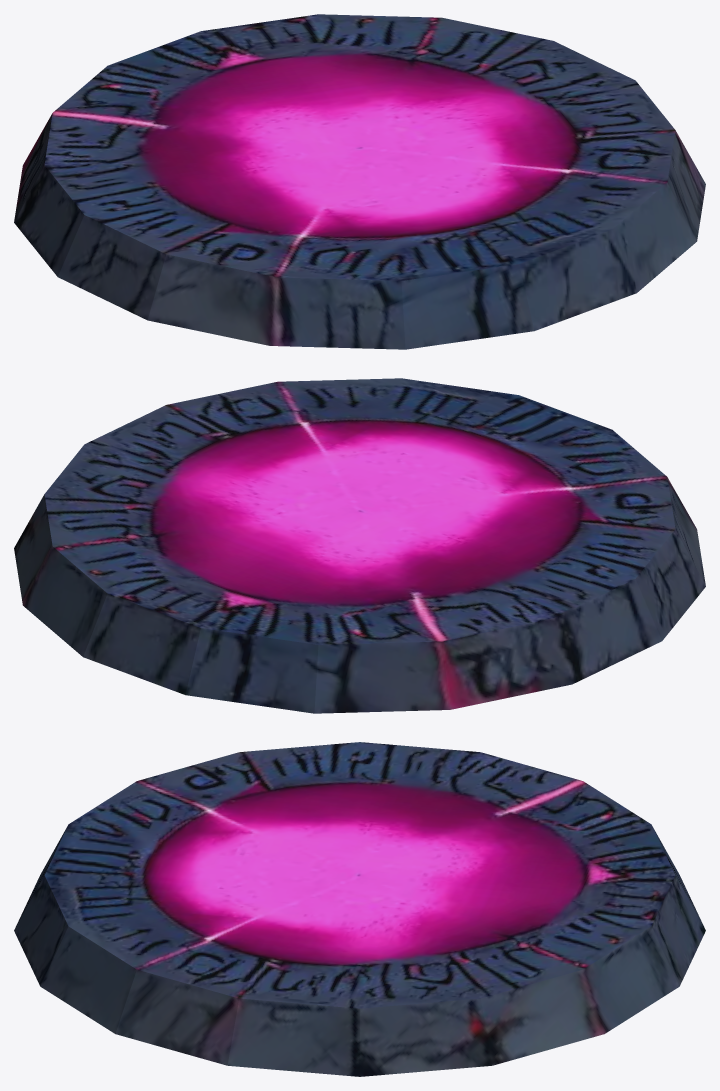
File: approach-stone-4-generated-2026-05-14T23-54-49-347Z.low.glb
3 views of the same model, one above another, from view 1: azimuth 30°, elevation 25°; view 2: azimuth 150°, elevation 25°; view 3: azimuth 270°, elevation 25° (orthographic).
Visible parts, largest first — view 1: GLTF; view 2: GLTF; view 3: GLTF.
Part boxes in pixels (<box>): GLTF: <box>14,14,705,349</box>; GLTF: <box>14,378,705,713</box>; GLTF: <box>14,742,705,1076</box>.
Bounding box in the file's own units: 18.73 × 1.65 × 18.73.
1 material, 1 textured.
